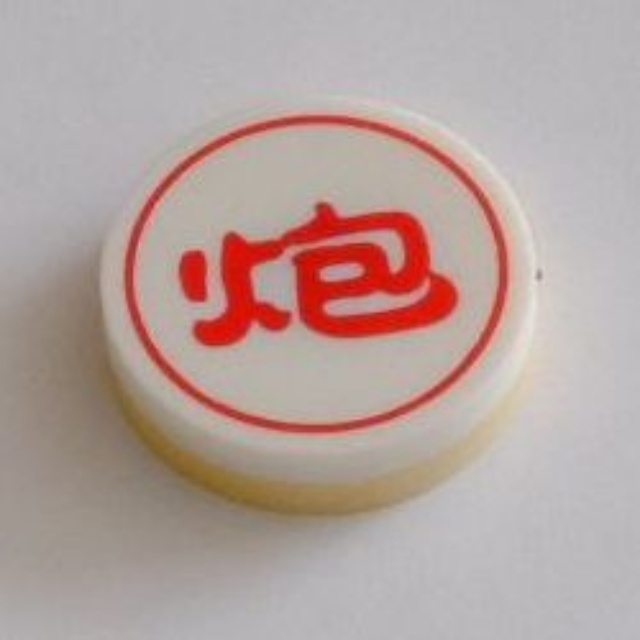red_phao: (88, 90, 552, 514)
